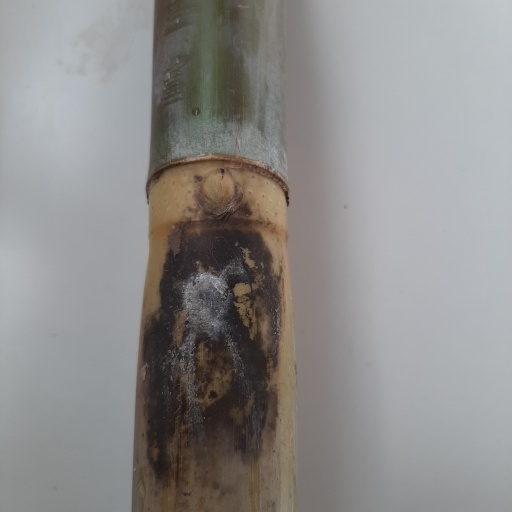Bud: (197, 168, 240, 221)
